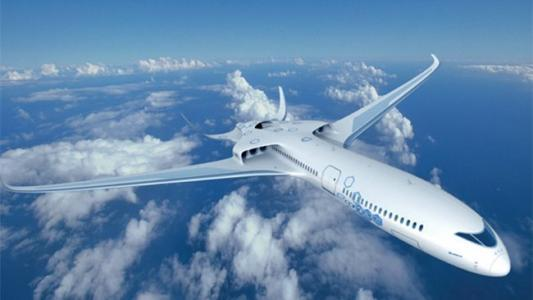airplane: (4, 52, 515, 282)
